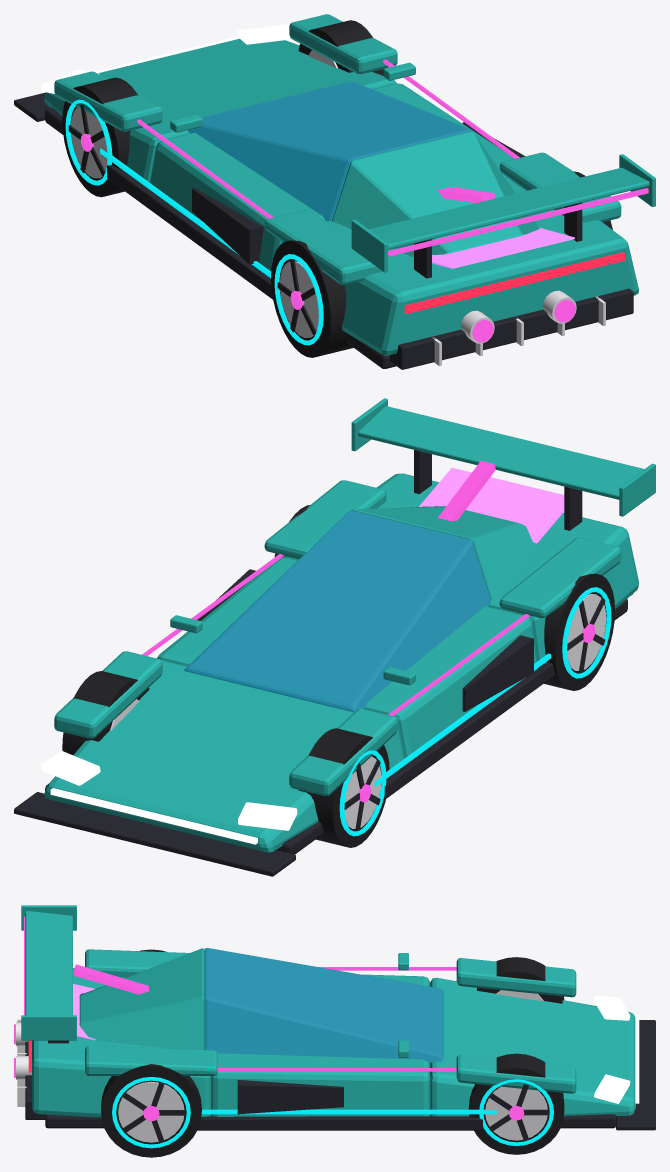
The model's file is hypercar.glb.
3 views of the same model, one above another, from view 1: azimuth 30°, elevation 25°; view 2: azimuth 150°, elevation 25°; view 3: azimuth 270°, elevation 25° (orthographic). The views are drawn at different scales.
Parts seen in each view (by area): view 1: body, wheel_rl, wheel_fl, wheel_fr; view 2: body, wheel_rl, wheel_fl, wheel_fr; view 3: body, wheel_rr, wheel_fr, wheel_fl.
Part boxes in pixels (x1=…): body: x1=14, y1=14, x2=655, y2=369; wheel_rl: x1=271, y1=240, x2=353, y2=357; wheel_fl: x1=62, y1=77, x2=137, y2=197; wheel_fr: x1=298, y1=20, x2=383, y2=75; body: x1=14, y1=398, x2=655, y2=876; wheel_rl: x1=544, y1=573, x2=614, y2=690; wheel_fl: x1=298, y1=728, x2=389, y2=847; wheel_fr: x1=62, y1=671, x2=149, y2=754; body: x1=14, y1=905, x2=655, y2=1130; wheel_rr: x1=101, y1=1064, x2=201, y2=1157; wheel_fr: x1=468, y1=1053, x2=564, y2=1154; wheel_fl: x1=477, y1=957, x2=564, y2=1003.
Bounding box in the file's own units: 2.16 × 1.15 × 4.84.
